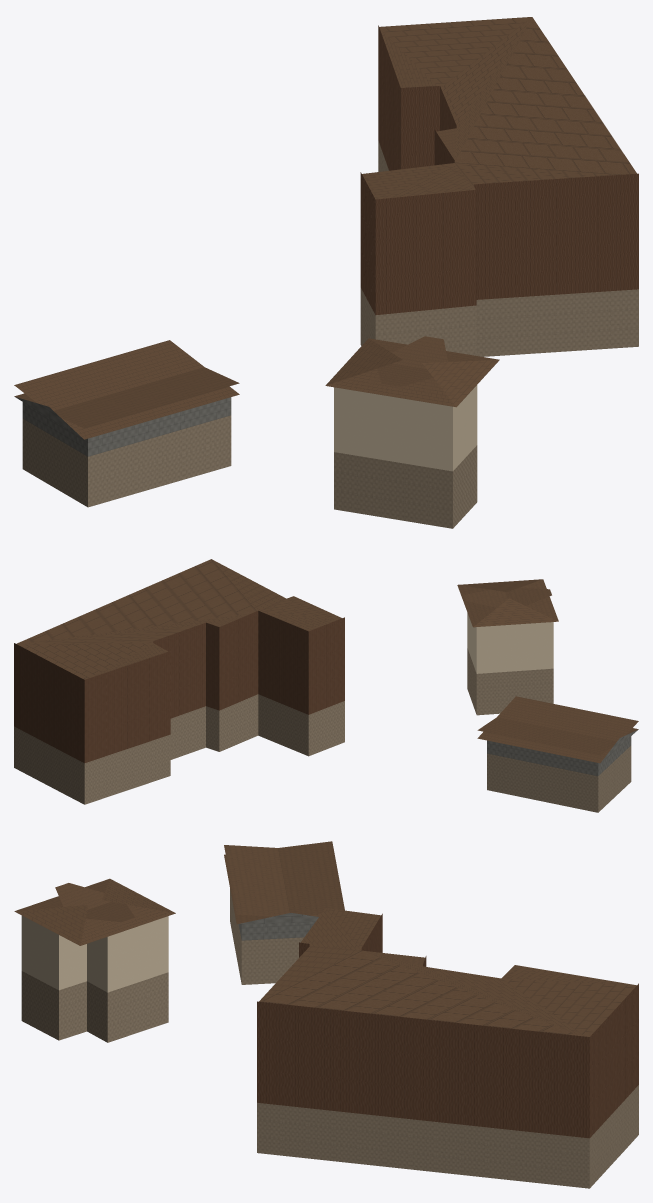
The model's file is bld_c37_47_202.gltf.
3 views of the same model, one above another, from view 1: azimuth 30°, elevation 25°; view 2: azimuth 150°, elevation 25°; view 3: azimuth 270°, elevation 25° (orthographic). The views are drawn at different scales.
Parts seen in each view (by area): view 1: bld_c37_47_202; view 2: bld_c37_47_202; view 3: bld_c37_47_202.
Boxes of the visible parts, bbox=[...] form: bld_c37_47_202: bbox=[14, 17, 638, 528]; bld_c37_47_202: bbox=[14, 559, 638, 812]; bld_c37_47_202: bbox=[14, 841, 638, 1188].
Bounding box in the file's own units: 61.85 × 16.38 × 57.47.
7 materials, 7 textured.
